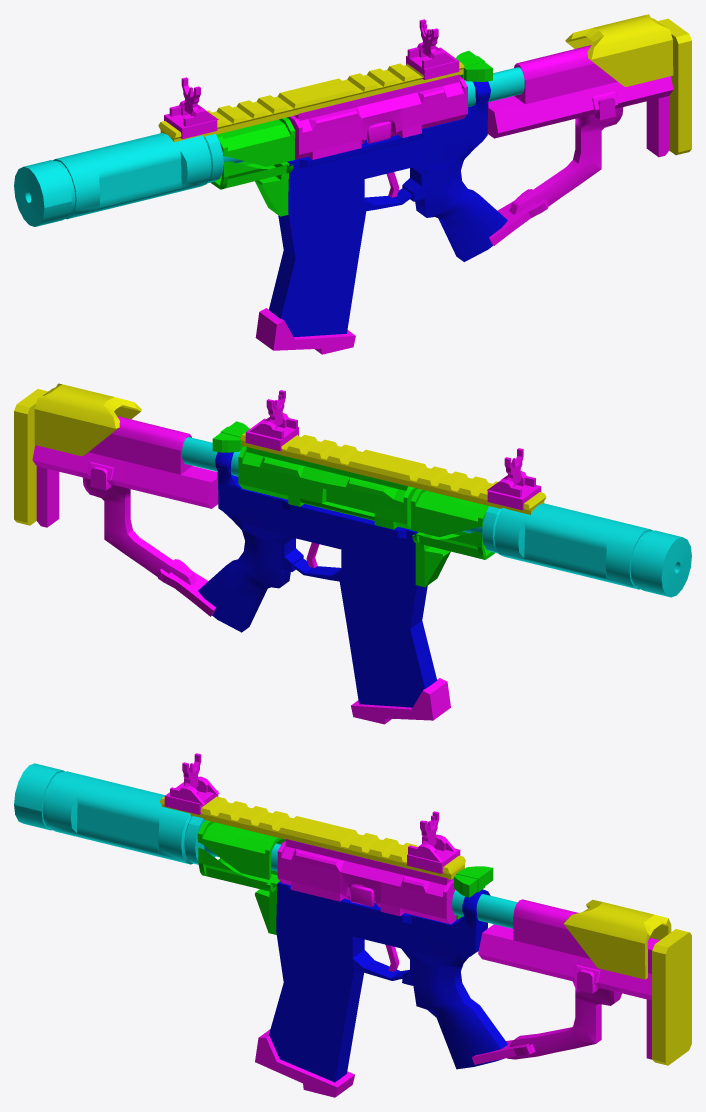
File: model_gun_6.fbx
3 views of the same model, one above another, from view 1: azimuth 30°, elevation 25°; view 2: azimuth 150°, elevation 25°; view 3: azimuth 330°, elevation 25° (orthographic).
Visible parts, largest first — view 1: gun_6; view 2: gun_6; view 3: gun_6.
Boxes of the visible parts, x1,y1,x2,y2 form: gun_6: [14, 14, 691, 354]; gun_6: [14, 383, 691, 724]; gun_6: [14, 753, 691, 1097].
Bounding box in the file's own units: 326 × 141 × 26.44.
